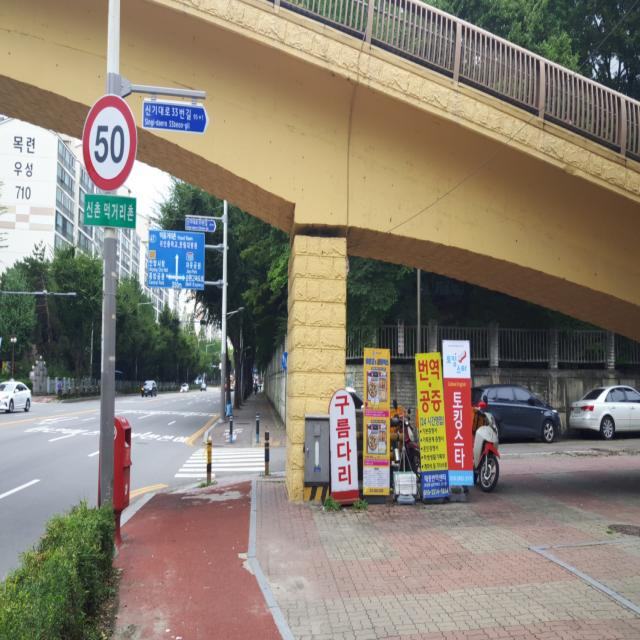횡단보도: (174, 446, 266, 478)
